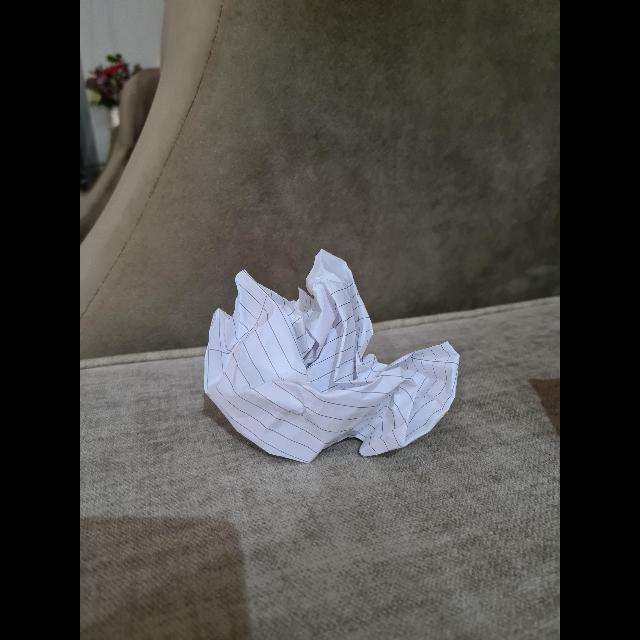scrap_paper: (192, 252, 460, 464)
